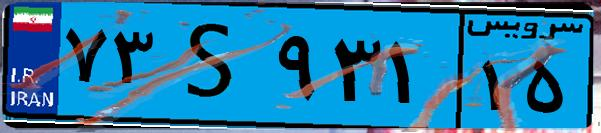1: (385, 28, 445, 110), (475, 38, 525, 113)
3: (330, 28, 385, 110), (110, 28, 158, 98)
5: (525, 38, 570, 115)
7: (57, 26, 110, 100)
9: (270, 28, 330, 110)
S: (158, 12, 270, 120)
